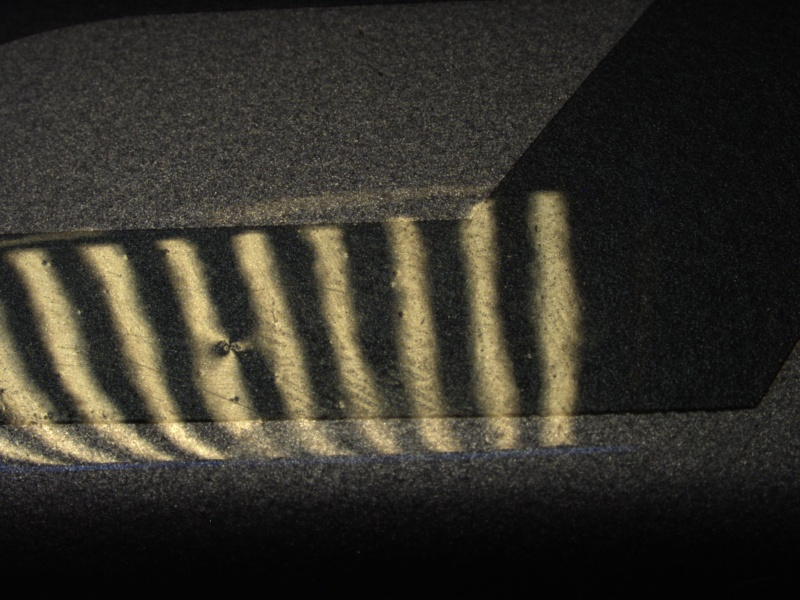bad: (208, 331, 257, 366)
